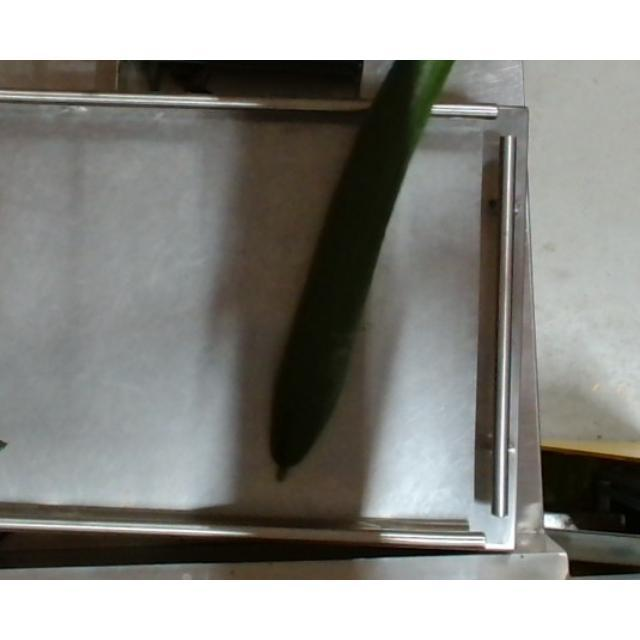cucumber: (266, 60, 458, 486)
